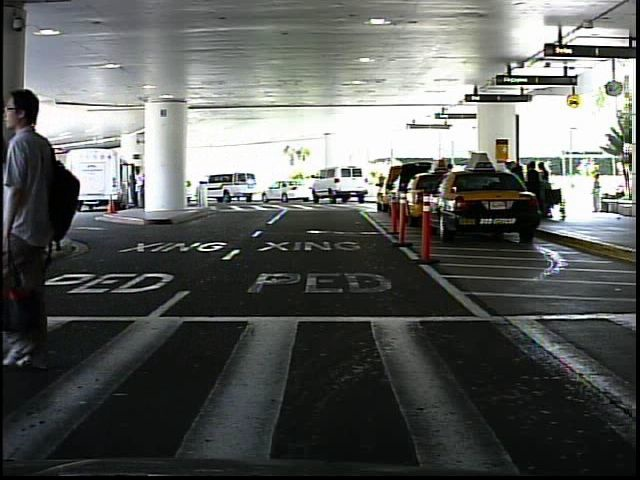person: (11, 68, 101, 385), (49, 171, 67, 221), (588, 172, 607, 218)
